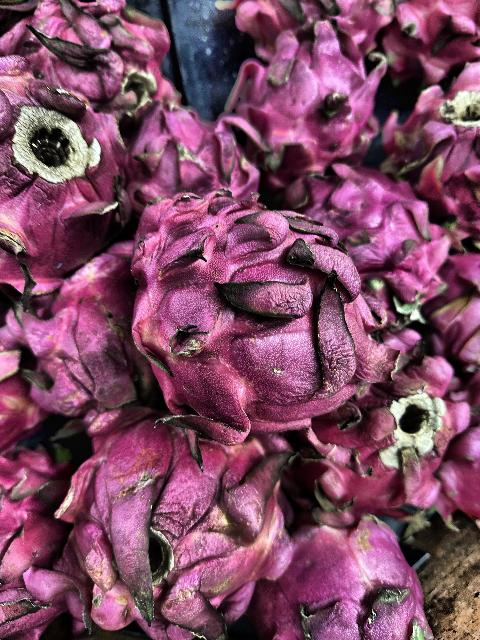buah-naga-matang: (134, 196, 376, 418), (68, 424, 294, 638), (0, 42, 128, 286), (255, 510, 433, 640), (316, 356, 460, 506), (14, 235, 134, 415), (302, 160, 448, 294), (239, 36, 379, 170), (17, 0, 155, 116), (0, 438, 72, 636), (384, 73, 480, 221), (130, 102, 254, 196), (240, 0, 388, 46), (424, 244, 480, 362), (386, 1, 480, 64)
